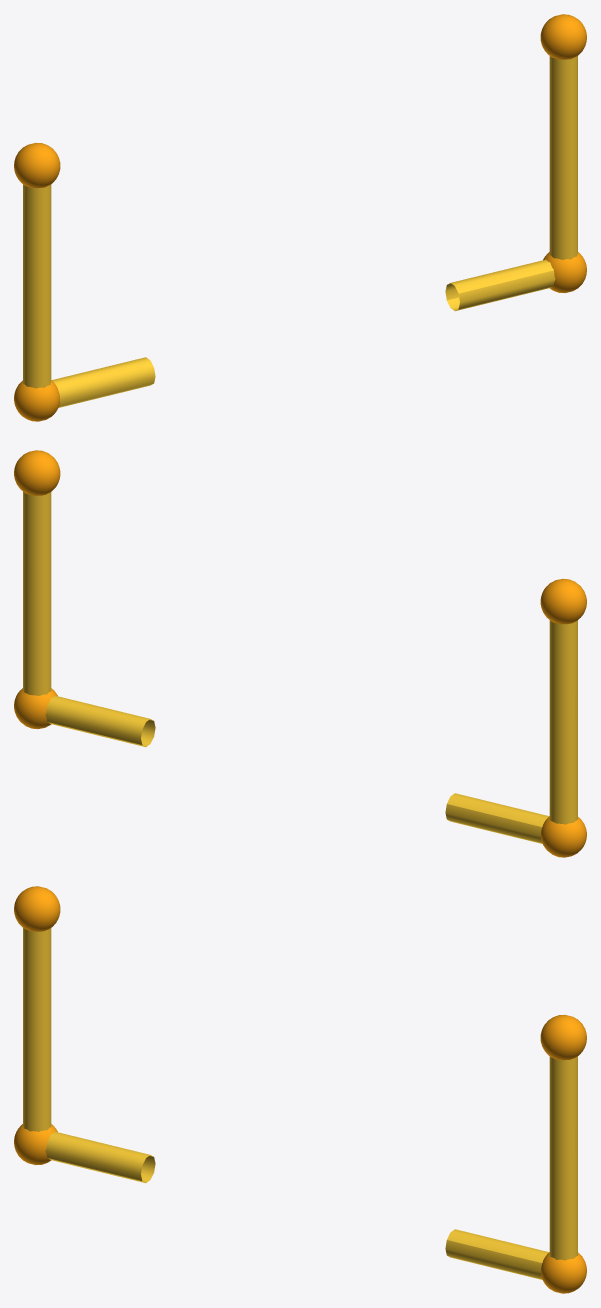
File: platform01.FBX
3 views of the same model, one above another, from view 1: azimuth 30°, elevation 25°; view 2: azimuth 150°, elevation 25°; view 3: azimuth 330°, elevation 25° (orthographic).
Parts seen in each view (by area): view 1: platform01; view 2: platform01; view 3: platform01.
Boxes of the visible parts, x1,y1,x2,y2 form: platform01: [14, 14, 586, 421]; platform01: [14, 450, 586, 857]; platform01: [14, 886, 586, 1293].
Bounding box in the file's own units: 19.49 × 9.02 × 1.38.
Materials: 1 (1 with a texture image).
